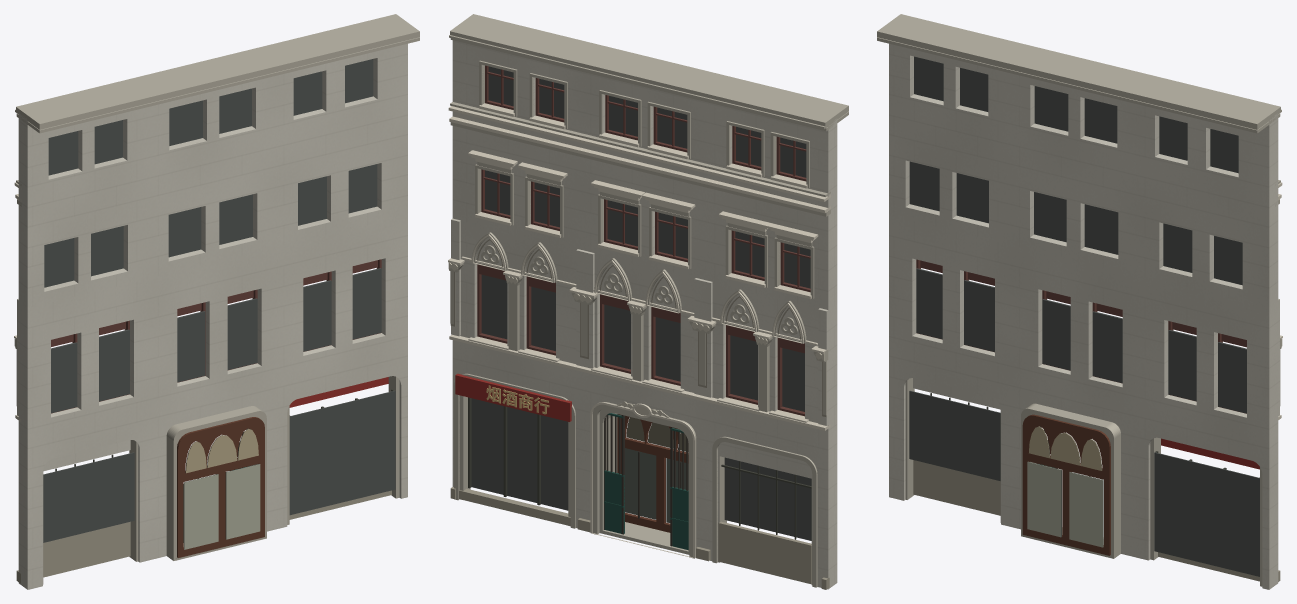
File: huangpu-jinling-eight-trefoil-front-lod.glb
The picture shows the model from 3 angles, left to right: view 1: azimuth 30°, elevation 25°; view 2: azimuth 150°, elevation 25°; view 3: azimuth 330°, elevation 25°; orthographic projection.
Parts seen in each view (by area): view 1: 金陵东路原洋行南立面尖券窗与入口; view 2: 金陵东路原洋行南立面尖券窗与入口; view 3: 金陵东路原洋行南立面尖券窗与入口.
Boxes of the visible parts, box(x1,y1,x2,y2) form: 金陵东路原洋行南立面尖券窗与入口: box(14, 14, 419, 589); 金陵东路原洋行南立面尖券窗与入口: box(448, 14, 848, 589); 金陵东路原洋行南立面尖券窗与入口: box(877, 14, 1282, 589).
Bounding box in the file's own units: 11.07 × 13.2 × 1.29.
19 materials, 1 textured.
